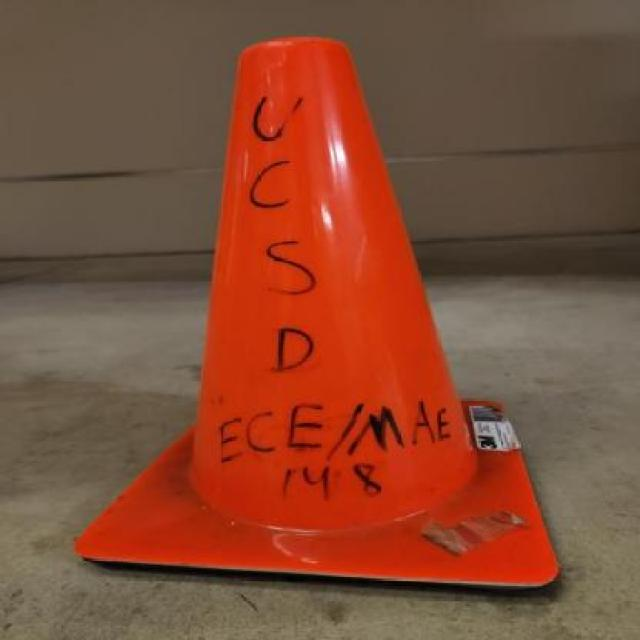traffic cone: (62, 28, 568, 601)
